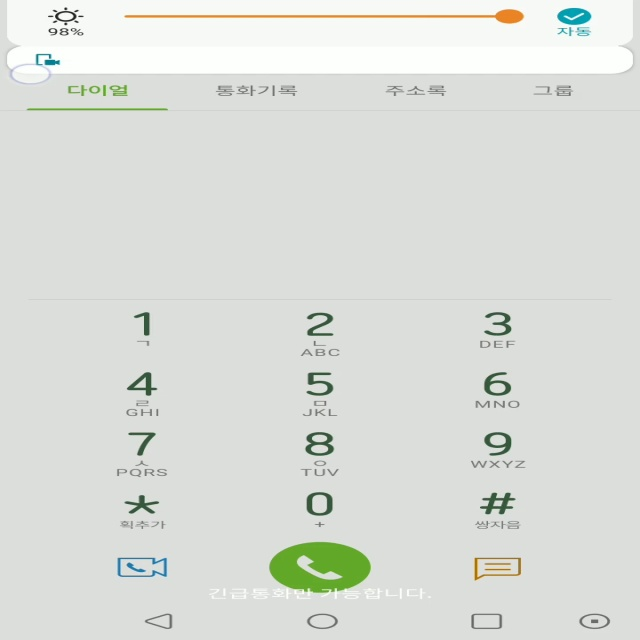Cursor: (8, 64, 53, 86)
